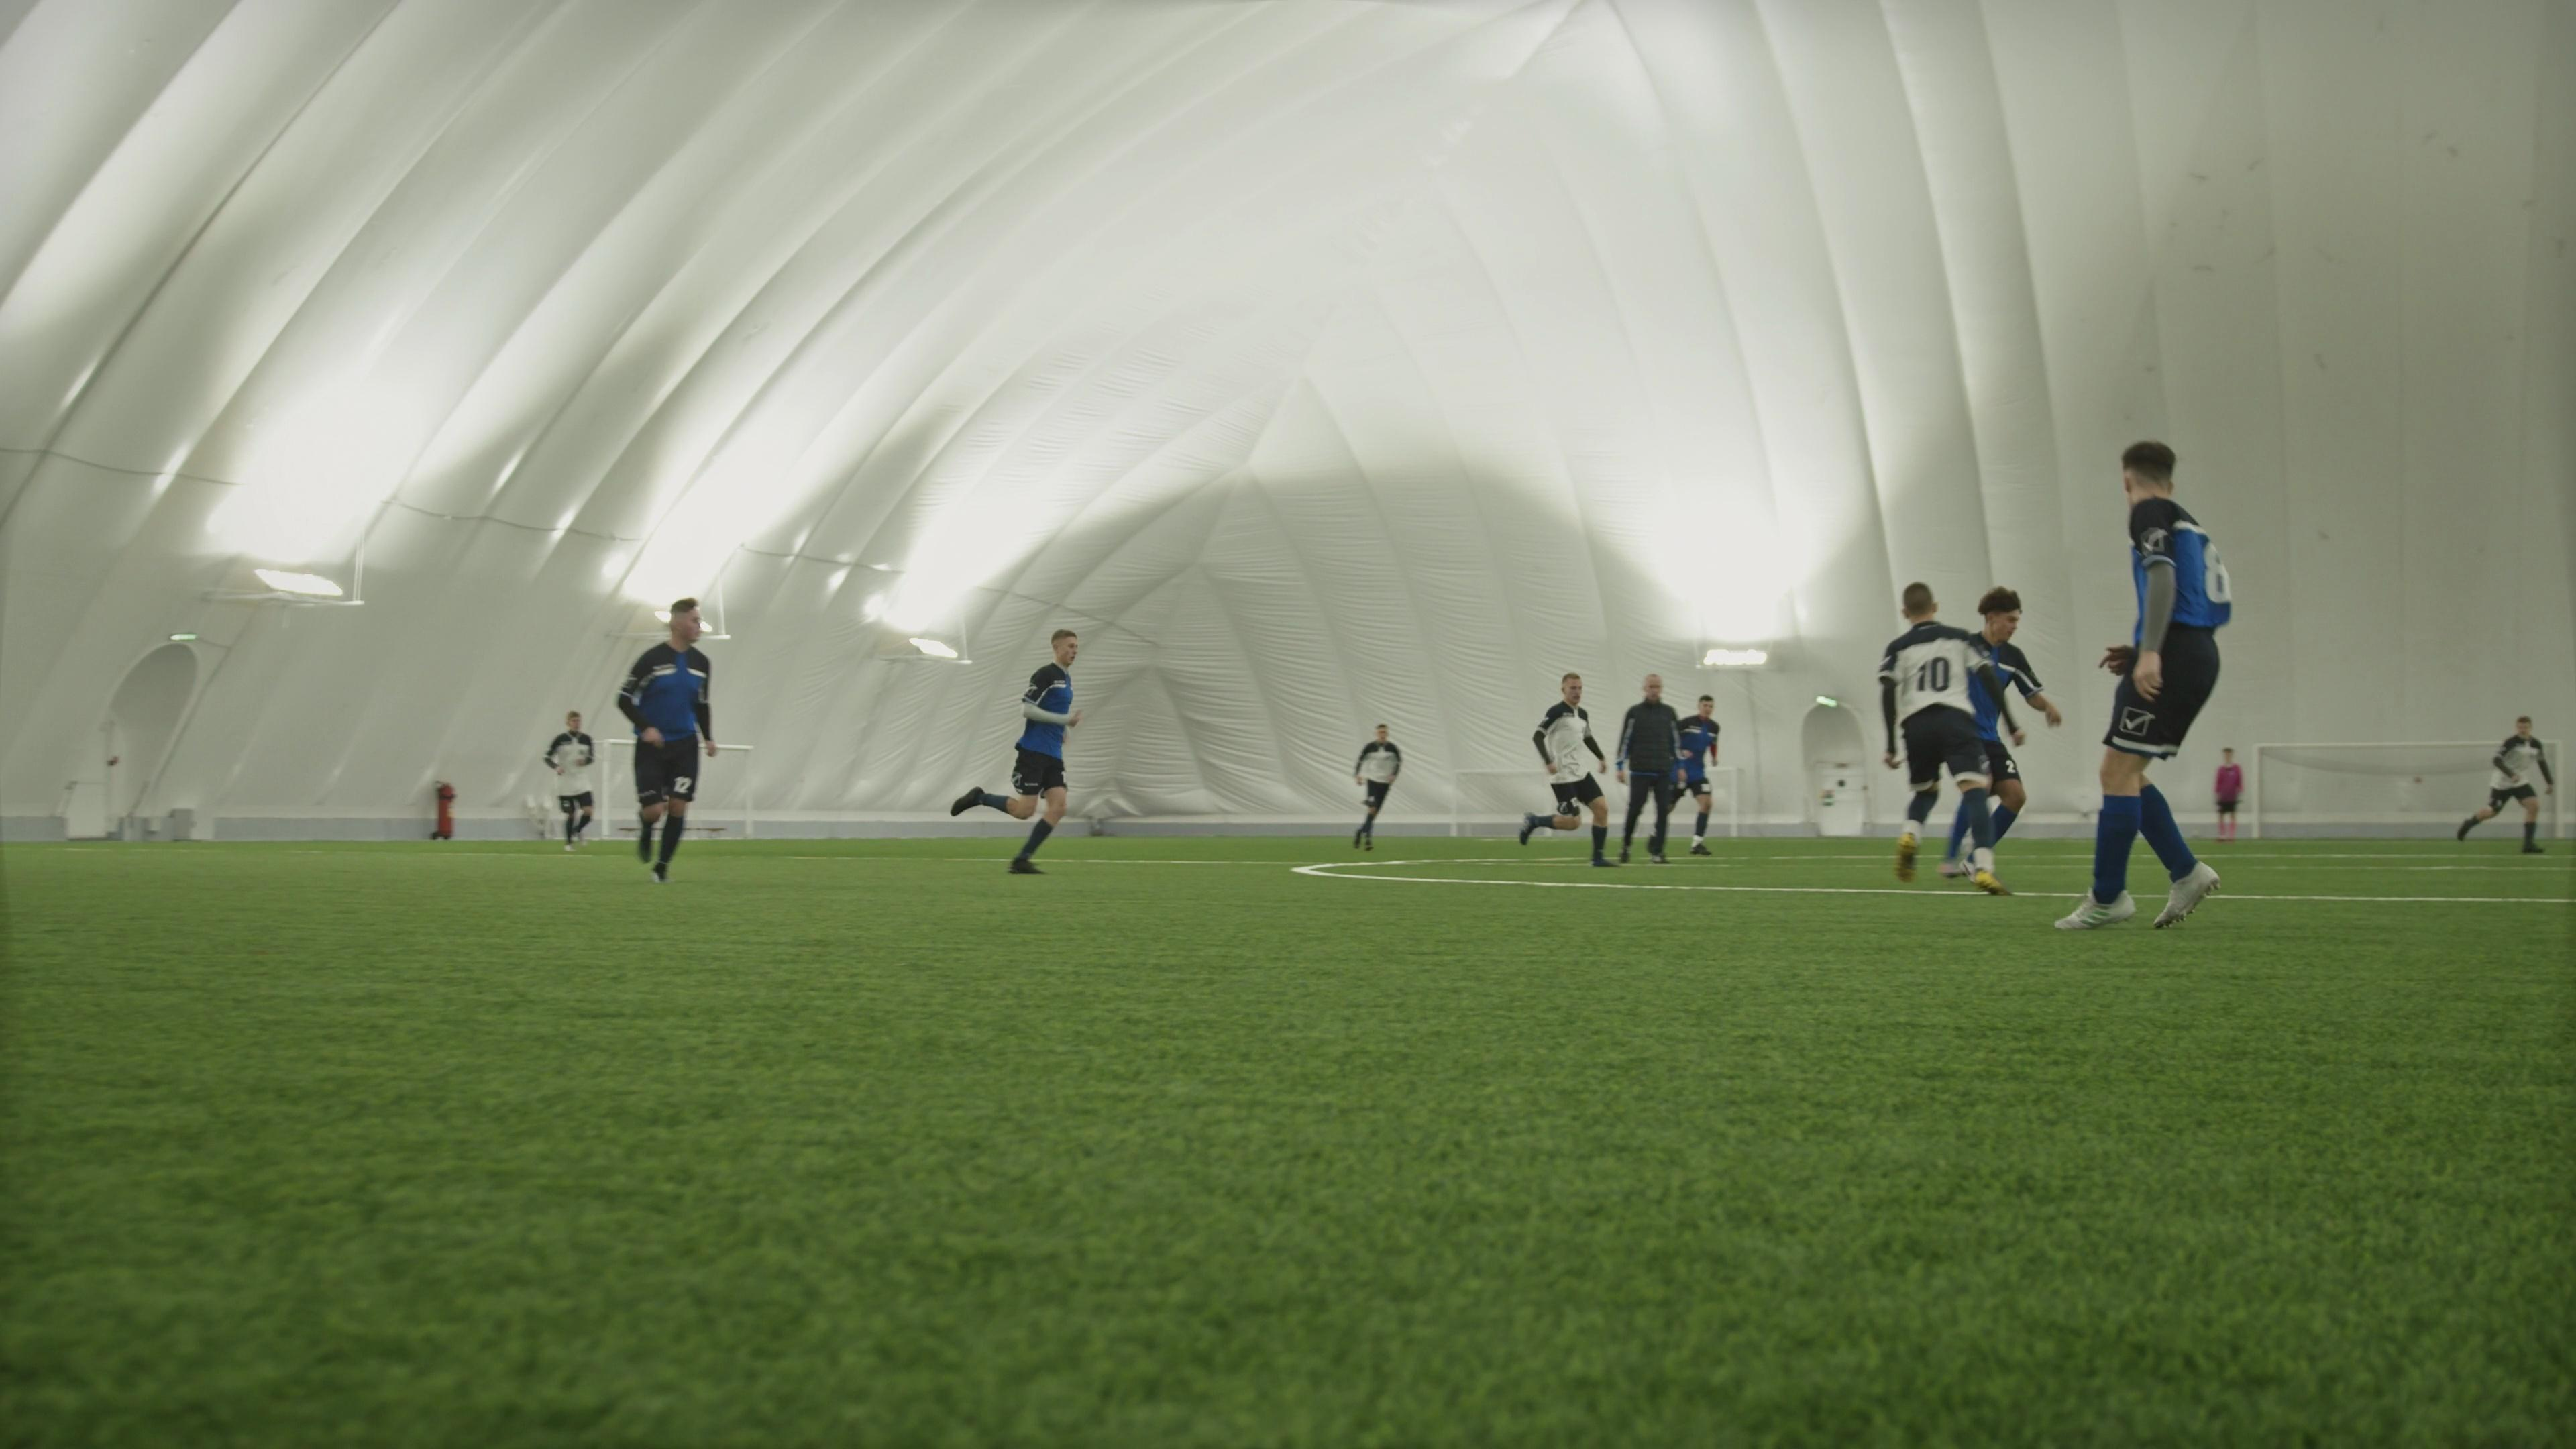other: (1615, 674, 1681, 863)
team1: (2056, 439, 2233, 932), (1955, 587, 2072, 886), (619, 602, 718, 888), (1000, 623, 1081, 876), (1667, 692, 1723, 855)
team1gk: (2210, 743, 2245, 842)
team2: (1875, 579, 1992, 885), (1529, 672, 1617, 865), (2452, 711, 2558, 851), (543, 709, 598, 849), (1352, 724, 1401, 851)
